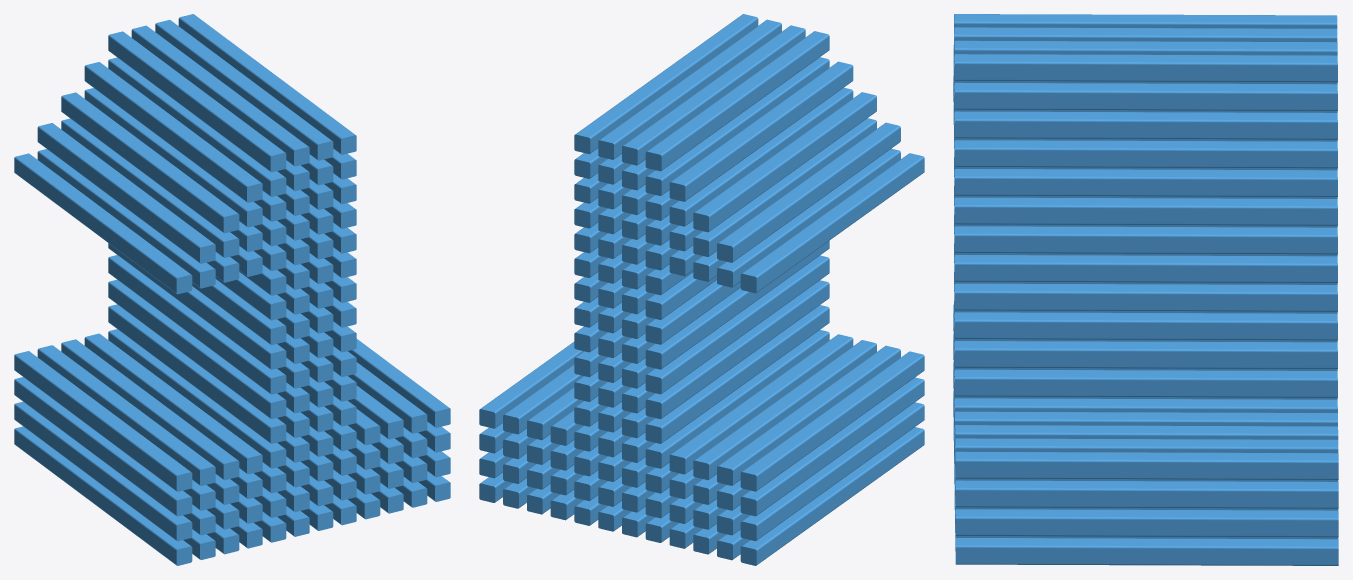
3 views of the same model, side by side, from view 1: azimuth 30°, elevation 25°; view 2: azimuth 150°, elevation 25°; view 3: azimuth 270°, elevation 25° (orthographic). The views are drawn at different scales.
Parts seen in each view (by area): view 1: 1; view 2: 1; view 3: 1.
Part boxes in pixels (bbox=[...]): 1: bbox=[14, 14, 450, 565]; 1: bbox=[479, 14, 924, 565]; 1: bbox=[953, 14, 1338, 565].
Size of the model in its own units: 6.14 by 8.17 by 6.35.
